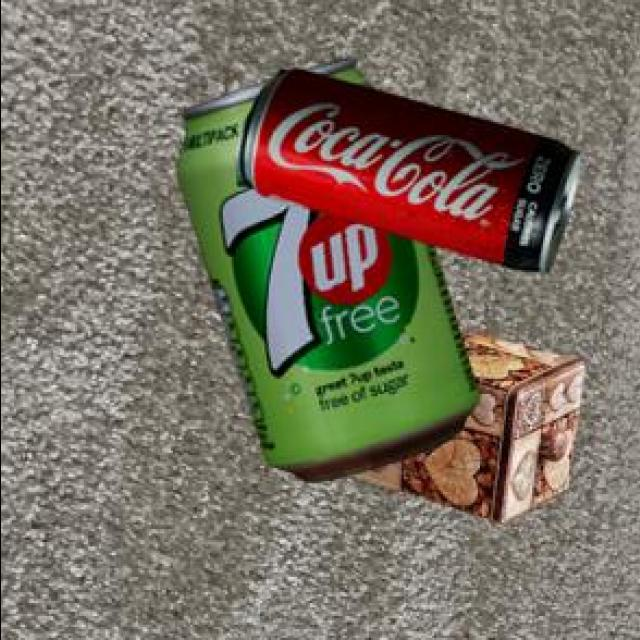logam: (180, 56, 482, 478), (238, 66, 584, 269), (356, 323, 587, 519)
